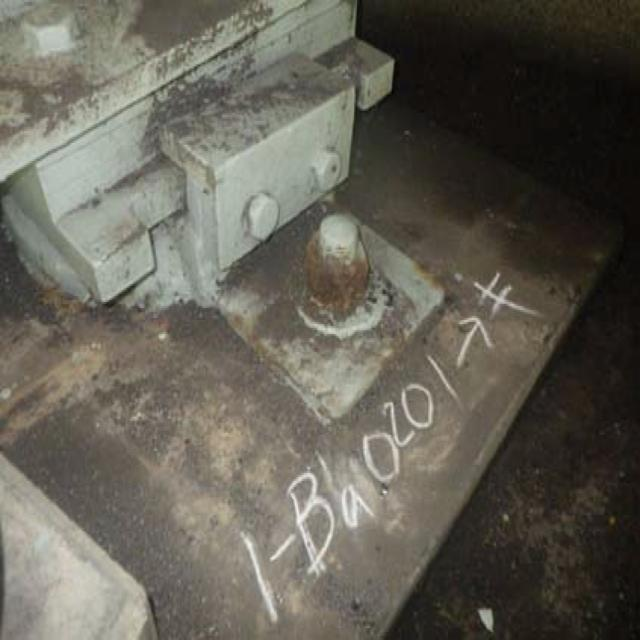corrosion: (292, 224, 384, 334)
